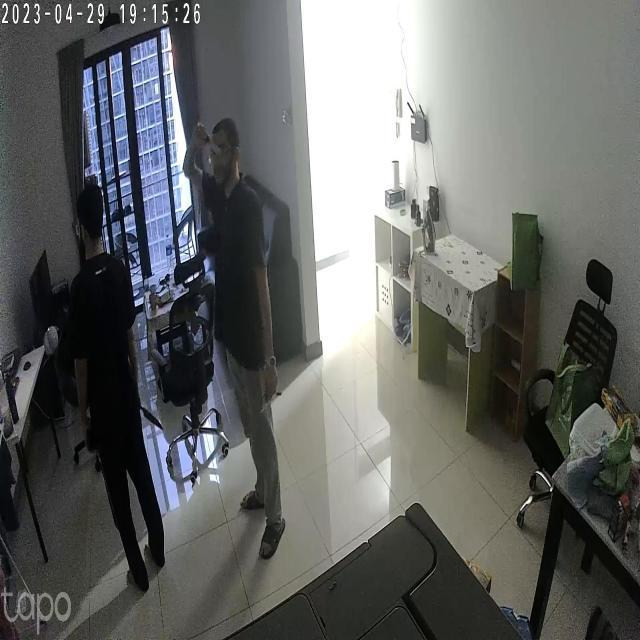Knife: (140, 390, 175, 440), (193, 121, 225, 161)
